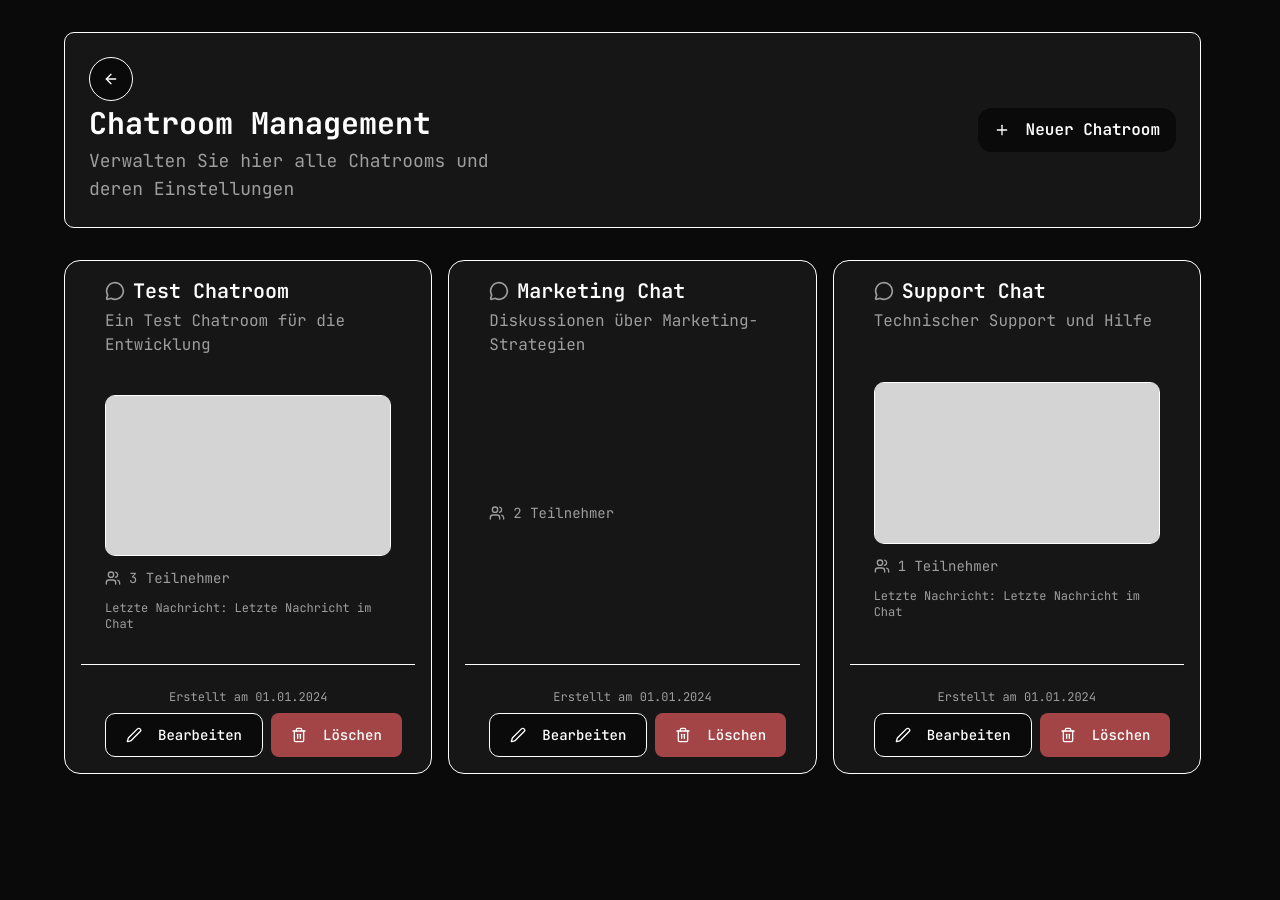
Test: ChatroomManagement › Delete Chatroom Dialog › sollte Delete Dialog öffnen mit Bestätigung
The image size is (1280, 900).
Expected: the text "Test Chatroom" is shown, left=105, top=278, right=289, bottom=304
Click the 1st button "Löschen": (336, 734) left=271, top=712, right=402, bottom=756
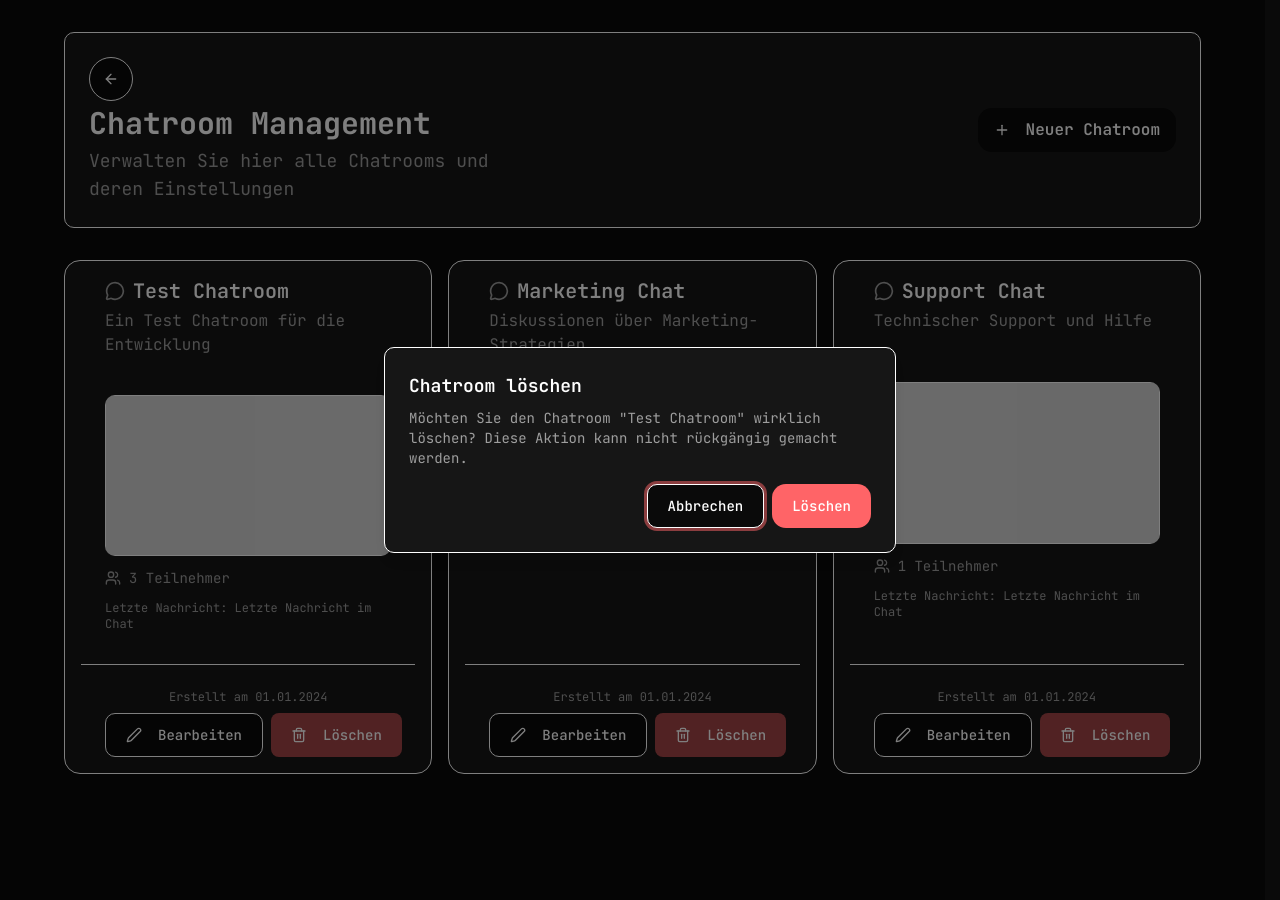
Expected: the heading "Chatroom löschen" is shown, left=409, top=374, right=582, bottom=397
Expected: the text "Möchten Sie den Chatroom \"Test Chatroom\" wirklich löschen" is shown, left=409, top=408, right=871, bottom=468
